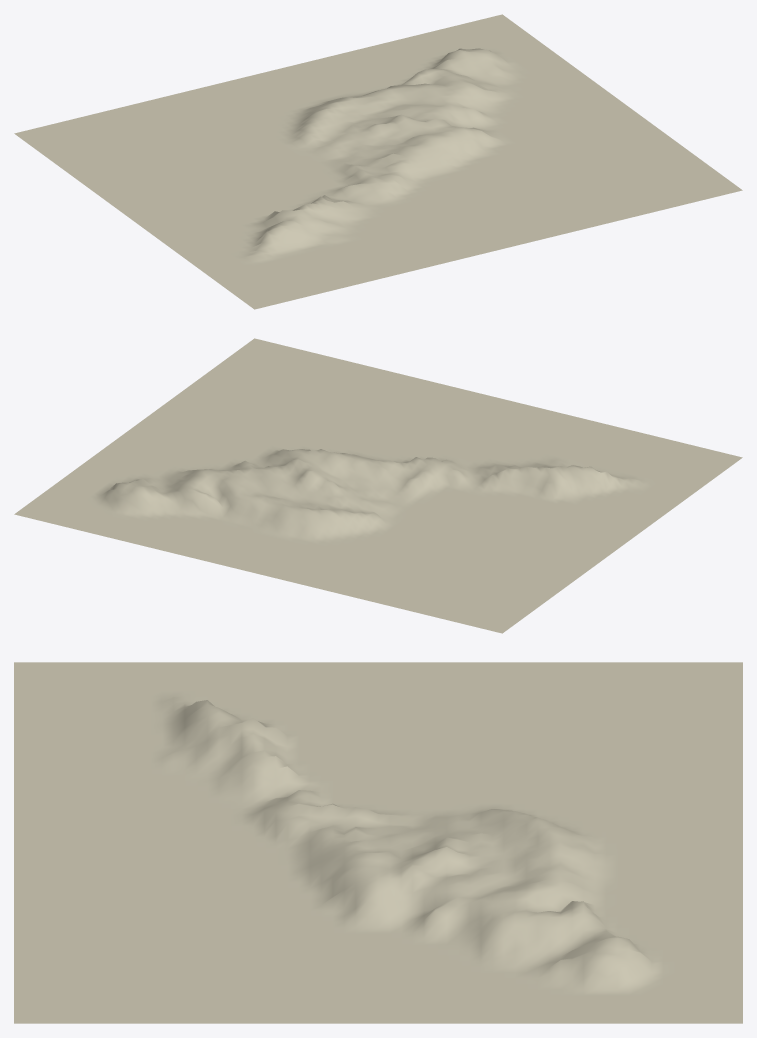
Rendered from CatalinaTerrain.obj.
The picture shows the model from 3 angles, top to bottom: view 1: azimuth 30°, elevation 25°; view 2: azimuth 150°, elevation 25°; view 3: azimuth 270°, elevation 25°; orthographic projection. The views are drawn at different scales.
Parts seen in each view (by area): view 1: catalina_island_terrain; view 2: catalina_island_terrain; view 3: catalina_island_terrain.
Part boxes in pixels (<box>): catalina_island_terrain: <box>14,14,742,309</box>; catalina_island_terrain: <box>14,338,742,633</box>; catalina_island_terrain: <box>14,662,742,1023</box>.
Bounding box in the file's own units: 998 × 38.67 × 851.
